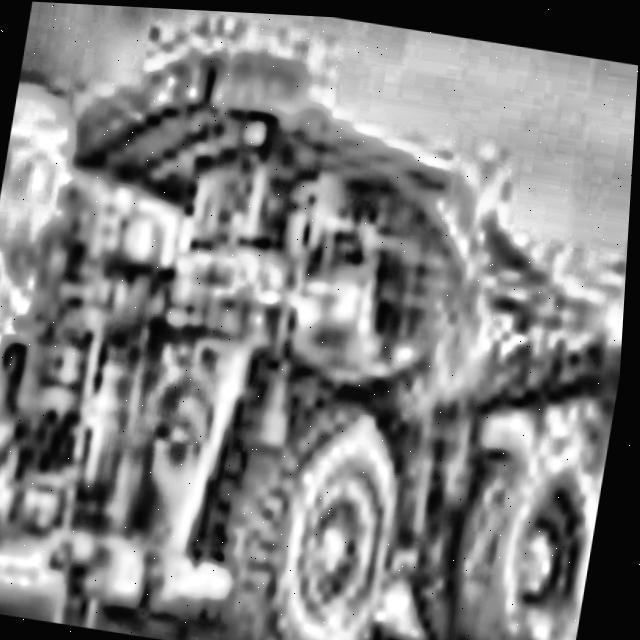dump_truck: (0, 3, 640, 640)
